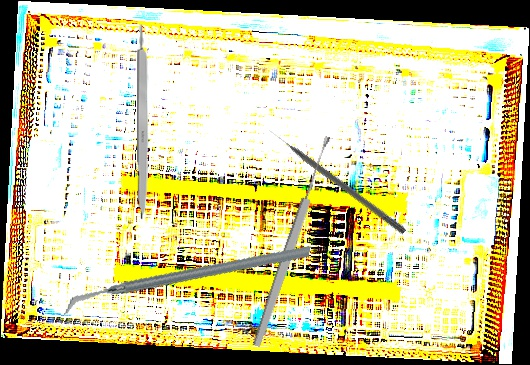Chopper: (63, 197, 312, 364)
Pusher: (267, 126, 408, 235)
Scalpel Handle: (137, 23, 150, 220)
Surgical Spoon: (250, 134, 335, 349)
